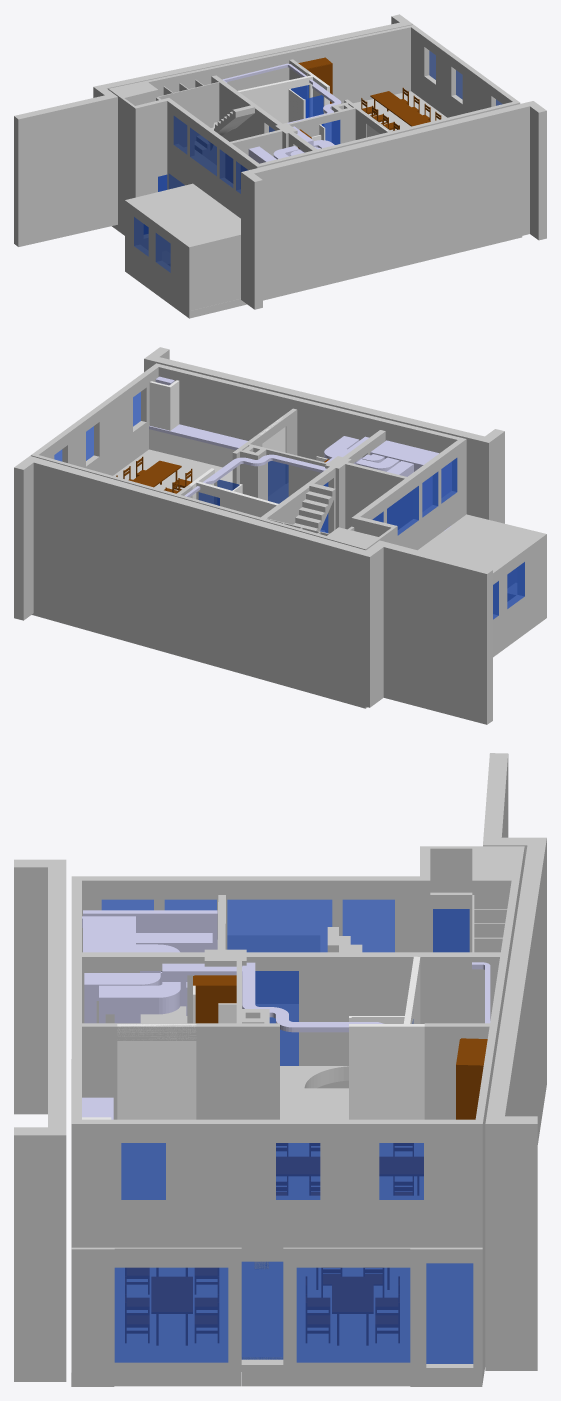
The model's file is DRM23OG.glb.
3 renders of one model, top to bottom at view 1: azimuth 30°, elevation 25°; view 2: azimuth 150°, elevation 25°; view 3: azimuth 270°, elevation 25°, orthographic. The views are drawn at different scales.
Parts seen in each view (by area): view 1: Mesh 49555, Mesh 8363, Mesh 50071, Mesh 8879, Mesh 71716, Mesh 44631, Mesh 45715, Mesh 7335, Mesh 3991, Mesh 51072, Mesh 46805, Mesh 49727 (+35 smaller); view 2: Mesh 49727, Mesh 8535, Mesh 45453, Mesh 50071, Mesh 8879, Mesh 44631, Mesh 45715, Mesh 49555, Mesh 3991, Mesh 51072, Mesh 47747, Mesh 50918 (+32 smaller); view 3: Mesh 44631, Mesh 870, Mesh 47341, Mesh 45715, Mesh 47963, Mesh 49727, Mesh 638, Mesh 11045, Mesh 50918, Mesh 49555, Mesh 80335, Mesh 79880 (+49 smaller).
Part boxes in pixels (left/top/right/bottom): Mesh 49555: left=241, top=101, right=537, bottom=239; Mesh 8363: left=241, top=170, right=529, bottom=302; Mesh 50071: left=14, top=95, right=109, bottom=183; Mesh 8879: left=14, top=163, right=109, bottom=246; Mesh 71716: left=285, top=25, right=414, bottom=103; Mesh 44631: left=410, top=25, right=520, bottom=117; Mesh 45715: left=165, top=98, right=258, bottom=218; Mesh 7335: left=185, top=227, right=240, bottom=310; Mesh 3991: left=129, top=201, right=190, bottom=307; Mesh 51072: left=135, top=186, right=240, bottom=242; Mesh 46805: left=132, top=99, right=167, bottom=172; Mesh 49727: left=93, top=21, right=413, bottom=97; Mesh 49727: left=25, top=456, right=375, bottom=632; Mesh 8535: left=33, top=538, right=375, bottom=707; Mesh 45453: left=158, top=365, right=466, bottom=516; Mesh 50071: left=383, top=543, right=492, bottom=649; Mesh 8879: left=383, top=622, right=492, bottom=724; Mesh 44631: left=31, top=363, right=161, bottom=475; Mesh 45715: left=351, top=440, right=463, bottom=550; Mesh 49555: left=144, top=355, right=494, bottom=518; Mesh 3991: left=489, top=536, right=541, bottom=648; Mesh 51072: left=418, top=521, right=533, bottom=568; Mesh 47747: left=345, top=462, right=412, bottom=529; Mesh 50918: left=114, top=450, right=326, bottom=532; Mesh 44631: left=71, top=1119, right=482, bottom=1247; Mesh 870: left=71, top=1059, right=485, bottom=1386; Mesh 47341: left=246, top=952, right=500, bottom=1065; Mesh 45715: left=82, top=876, right=430, bottom=1003; Mesh 47963: left=82, top=1023, right=279, bottom=1119; Mesh 49727: left=485, top=837, right=546, bottom=1247; Mesh 638: left=296, top=1267, right=410, bottom=1362; Mesh 11045: left=114, top=1267, right=228, bottom=1362; Mesh 50918: left=121, top=1004, right=423, bottom=1261; Mesh 49555: left=48, top=859, right=66, bottom=1258; Mesh 80335: left=349, top=1024, right=424, bottom=1119; Mesh 79880: left=117, top=1024, right=196, bottom=1119.
Size of what is drawn, in the model's own units: 17.26 by 5.5 by 10.18.
